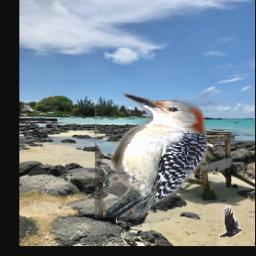Crow: (219, 205, 241, 237)
Woodpecker: (95, 94, 207, 218)
